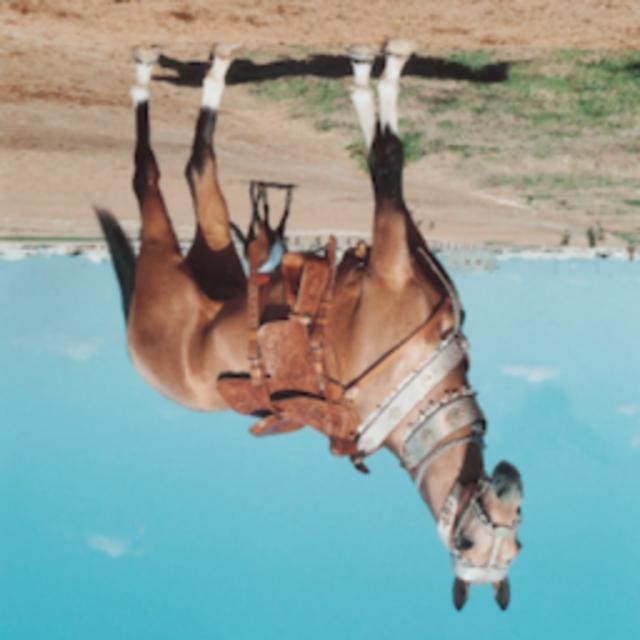Horse: (88, 35, 530, 618)
